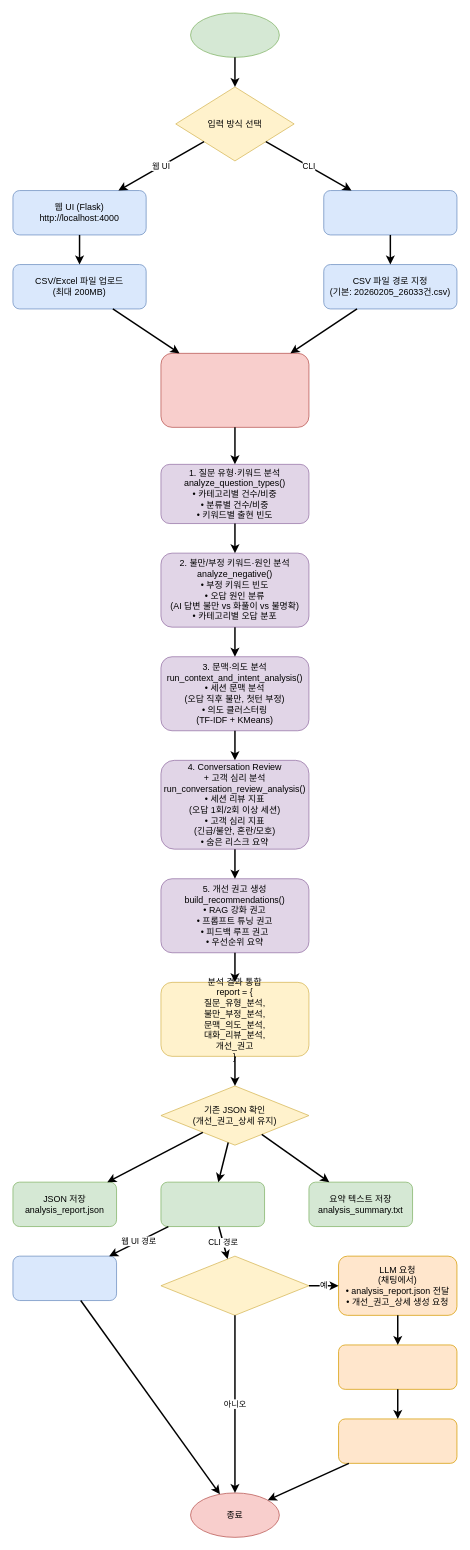
Some shapes in this 470 by 1550 pixel diagram are drawn without their labels. Here are the shapes that lost their labels. From the top down, the centre of each, then its label:
At (234,34): "시작".
At (390,212): "CLI 실행 python run_analysis.py [파일경로]".
At (234,390): "데이터 로드 및 정규화 load_chat_log_any() • CSV/Excel 파싱 • 컬럼 정규화 (날짜, 답변순서) • 문자열 정제".
At (212,1204): "HTML 보고서 생성 analysis_report.html (비개발자용)".
At (64,1278): "웹 UI에 HTML 표시 (iframe)".
At (234,1285): "LLM 개선 권고 상세화 필요?".
At (397,1366): "JSON 수동 업데이트 개선_권고_상세 추가".
At (397,1440): "HTML 재생성 python -m src.report_html".
